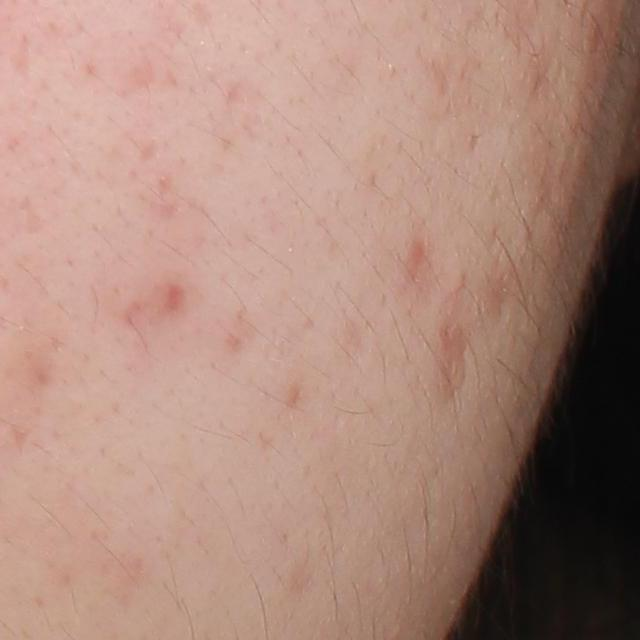atrophic_scar: (434, 321, 472, 397), (11, 34, 33, 80), (137, 139, 165, 163), (162, 284, 184, 313)
